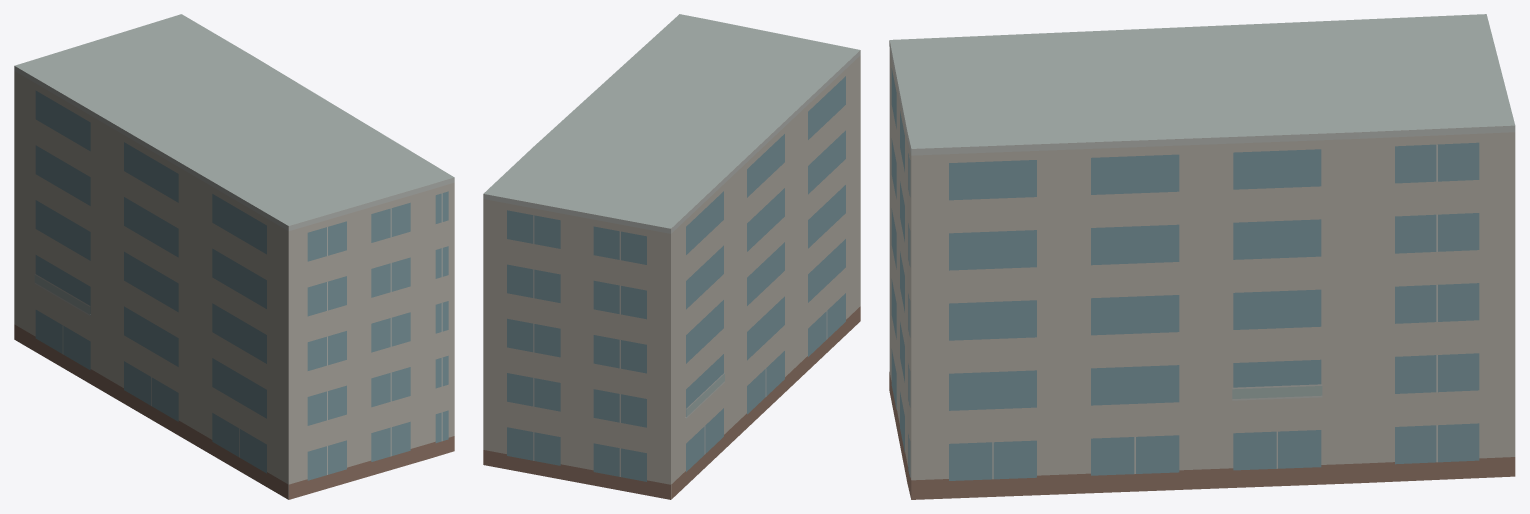
The model's file is survey-upis-32607499.glb.
3 renders of one model, left to right at view 1: azimuth 30°, elevation 25°; view 2: azimuth 150°, elevation 25°; view 3: azimuth 270°, elevation 25°, orthographic. The views are drawn at different scales.
Parts seen in each view (by area): view 1: survey-upis-32607499.tmp; view 2: survey-upis-32607499.tmp; view 3: survey-upis-32607499.tmp.
Boxes of the visible parts, x1,y1,x2,y2 form: survey-upis-32607499.tmp: (14, 14, 454, 499); survey-upis-32607499.tmp: (483, 14, 860, 499); survey-upis-32607499.tmp: (889, 14, 1515, 499).
Bounding box in the file's own units: 10.69 × 12.95 × 20.94.
